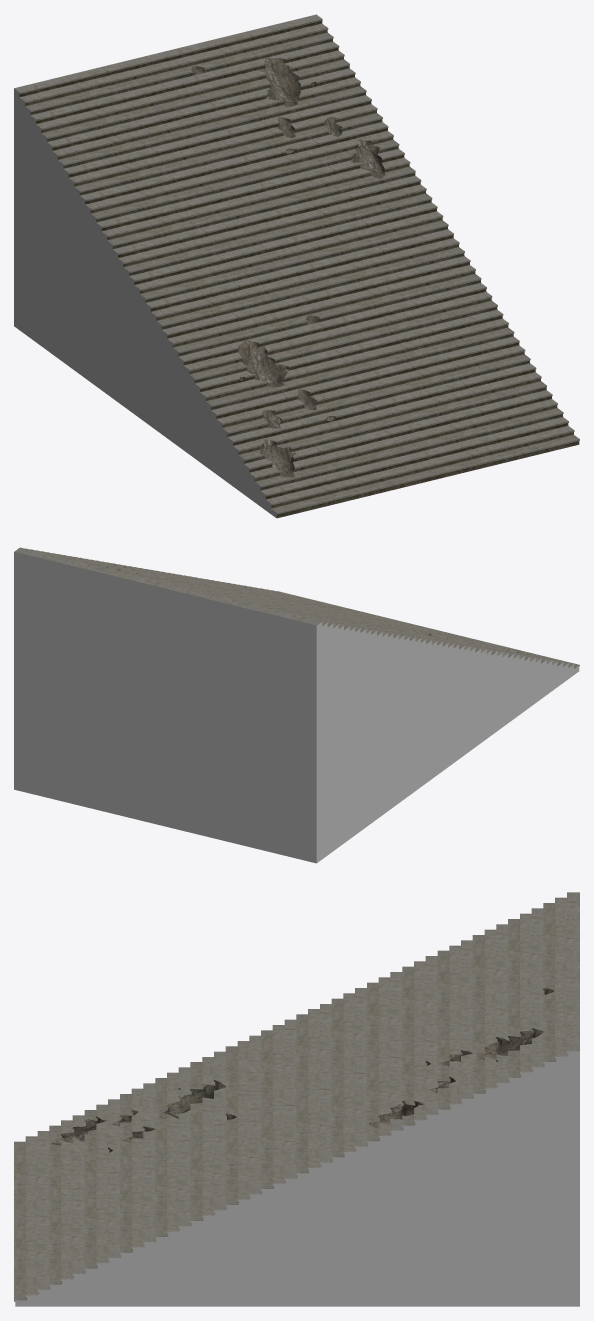
File: P_LongStairs01.fbx
3 views of the same model, one above another, from view 1: azimuth 30°, elevation 25°; view 2: azimuth 150°, elevation 25°; view 3: azimuth 270°, elevation 25° (orthographic). The views are drawn at different scales.
Visible parts, largest first — view 1: P_LongStairs01; view 2: P_LongStairs01; view 3: P_LongStairs01.
Boxes of the visible parts, box(x1,y1,x2,y2) form: P_LongStairs01: box(14, 14, 579, 518); P_LongStairs01: box(14, 547, 579, 863); P_LongStairs01: box(14, 892, 579, 1306).
Bounding box in the file's own units: 1000 × 751 × 1506.
